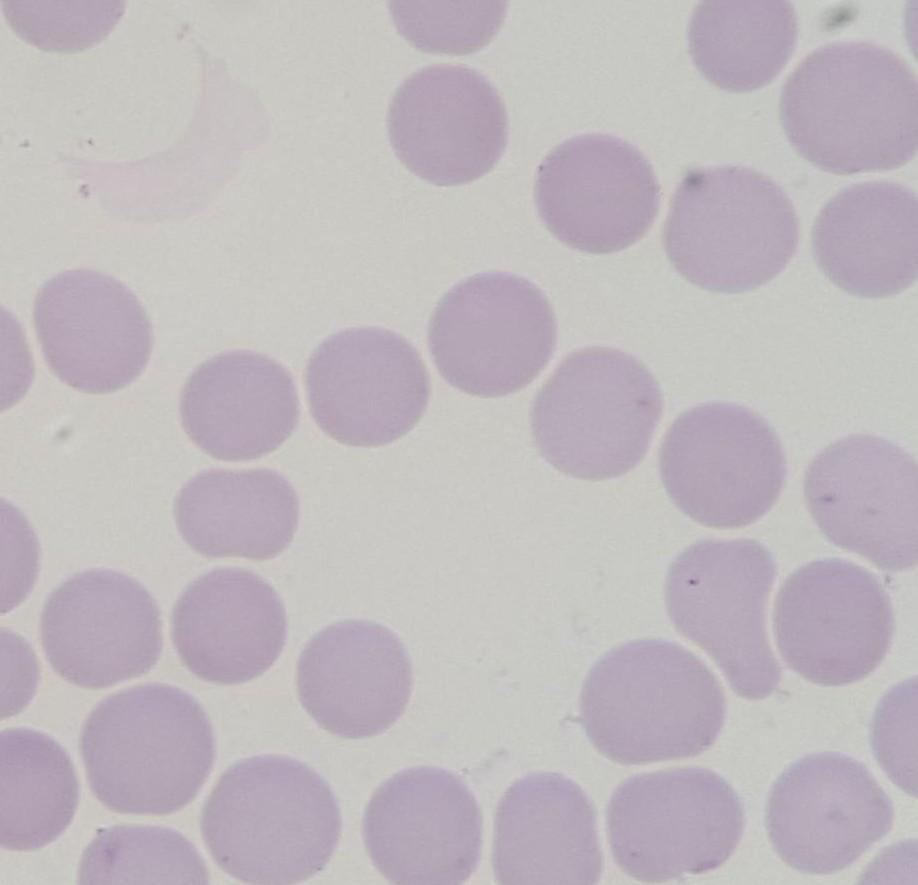Uninfected: (663, 539, 783, 697), (577, 640, 723, 766), (79, 682, 215, 815), (204, 754, 344, 882), (528, 348, 661, 479), (782, 43, 916, 173), (665, 166, 796, 290), (427, 270, 558, 393), (658, 402, 786, 527), (606, 767, 739, 882), (534, 133, 661, 252), (304, 327, 431, 446), (773, 559, 891, 687), (41, 569, 165, 689), (805, 434, 916, 568), (33, 268, 152, 392), (765, 754, 887, 872), (171, 567, 290, 686), (387, 64, 508, 181), (361, 769, 482, 883), (294, 620, 411, 737), (178, 348, 301, 459), (811, 179, 917, 295), (492, 773, 603, 883), (174, 466, 297, 561), (689, 2, 794, 88)
